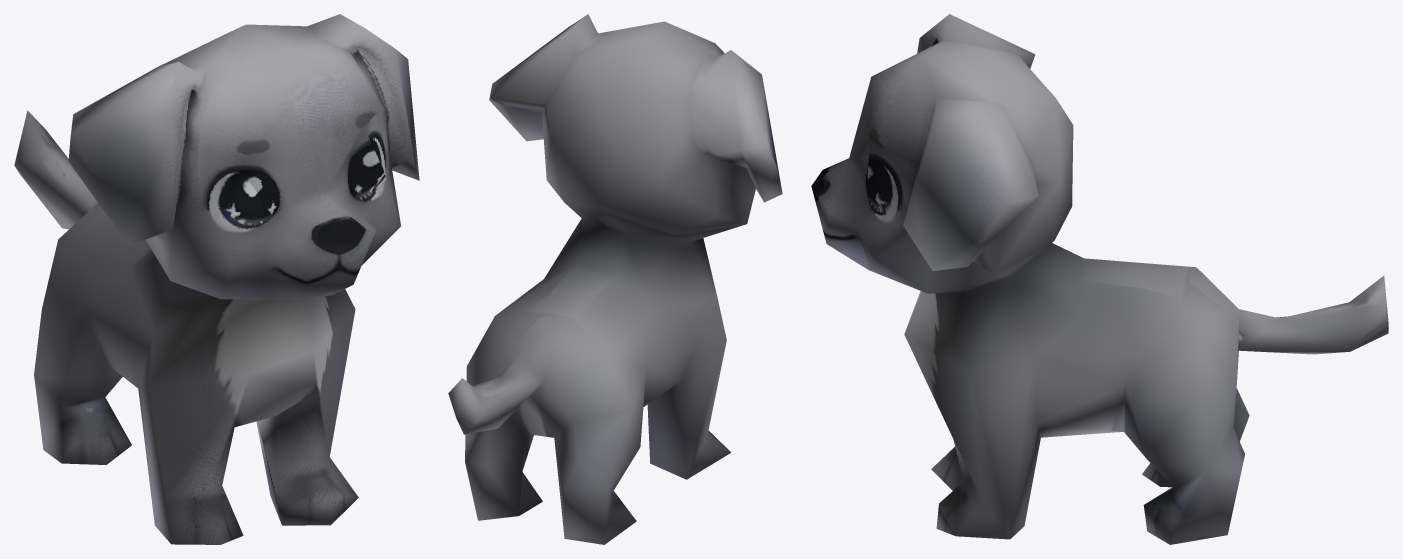
The model's file is puppy-game-340.glb.
3 views of the same model, side by side, from view 1: azimuth 30°, elevation 25°; view 2: azimuth 150°, elevation 25°; view 3: azimuth 270°, elevation 25° (orthographic). The views are drawn at different scales.
Parts seen in each view (by area): view 1: material; view 2: material; view 3: material.
Boxes of the visible parts, <box> form: material: <box>14,14,419,544</box>; material: <box>448,14,782,544</box>; material: <box>811,14,1388,544</box>.
Size of the model in its own units: 0.6888 by 0.9613 by 1.1.
Materials: 1 (1 with a texture image).
